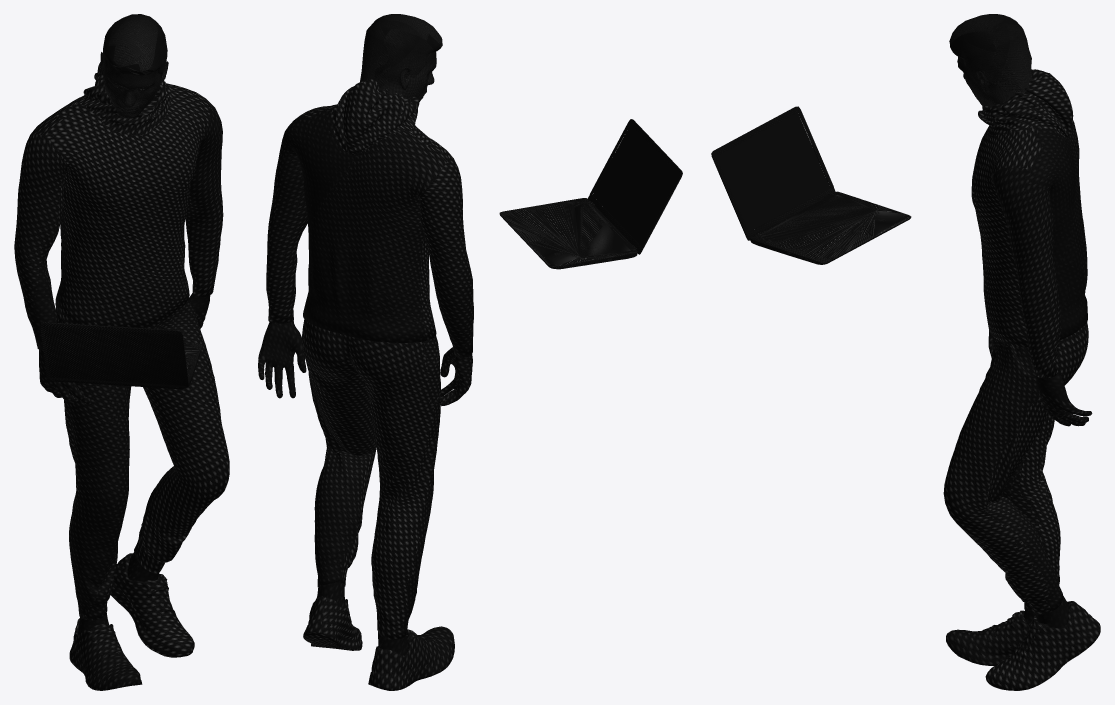
Rendered from MeSkills.glb.
3 renders of one model, left to right at view 1: azimuth 30°, elevation 25°; view 2: azimuth 150°, elevation 25°; view 3: azimuth 270°, elevation 25°, orthographic. The views are drawn at different scales.
Parts seen in each view (by area): view 1: Me, Laptop; view 2: Me, Laptop; view 3: Me, Laptop.
Boxes of the visible parts, x1,y1,x2,y2 form: Me: [14, 14, 229, 690]; Laptop: [40, 322, 202, 389]; Me: [258, 14, 473, 690]; Laptop: [499, 119, 682, 269]; Me: [943, 14, 1100, 690]; Laptop: [711, 106, 911, 264].
Bounding box in the file's own units: 0.0821 × 0.1727 × 0.0931.
2 materials, 2 textured.
